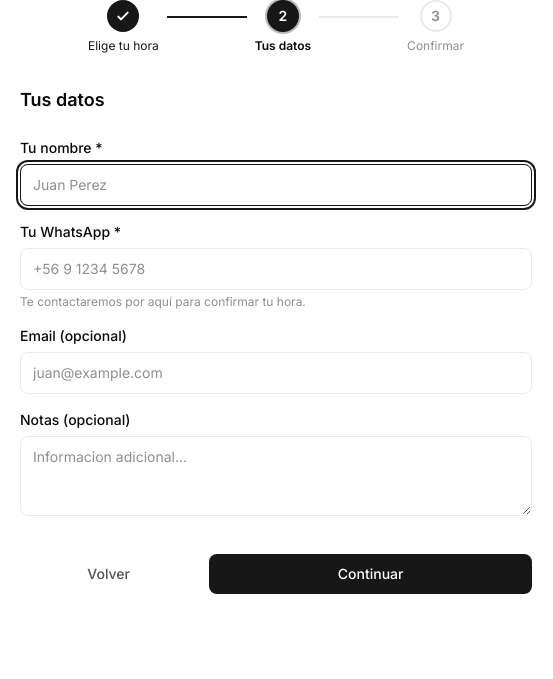
Test case: BookingWizard › shows error when phone is invalid
Type "Ana" into the field with placeholder "Juan Perez".
click(276, 185); type("Ana")  # box [20,164,532,206]
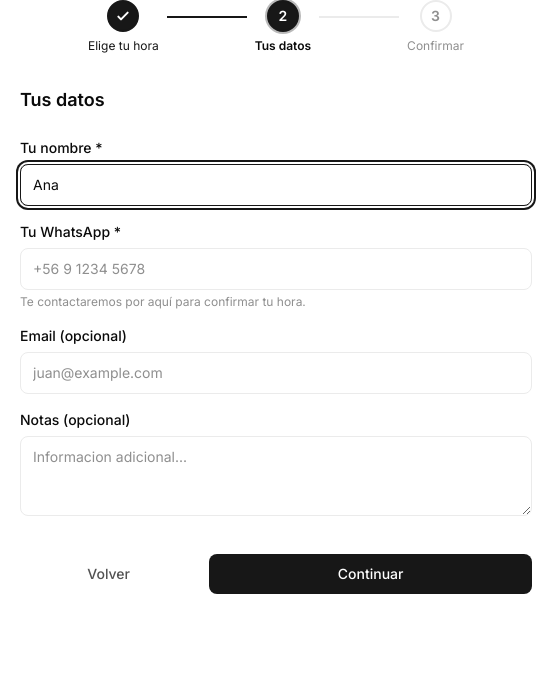
Type "123" into the field with placeholder "+56 9 1234 5678".
click(276, 269); type("123")  # box [20,248,532,290]
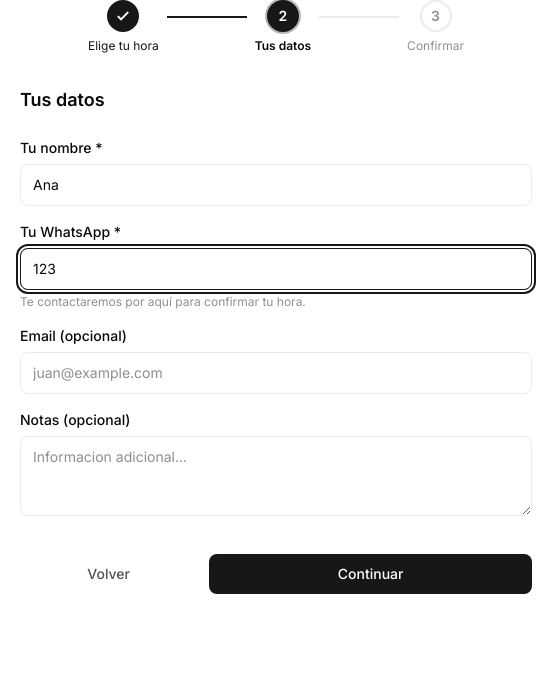
Click the button "Continuar".
click(371, 574)  # box [209,554,532,594]
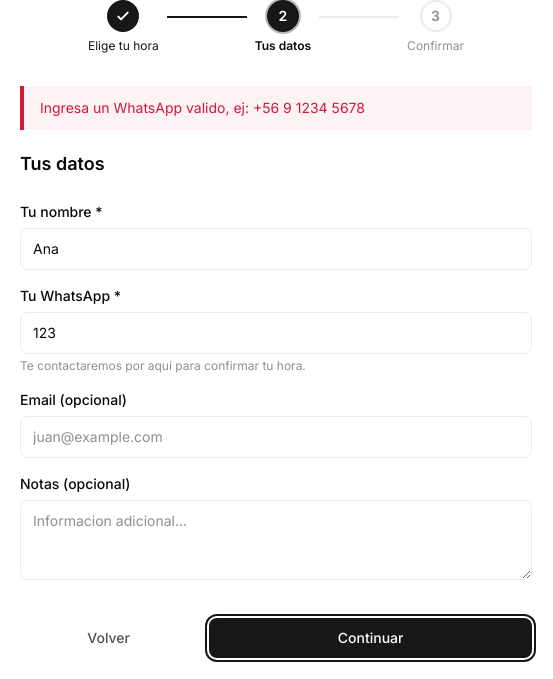
Expected: the text "Ingresa un WhatsApp valido, ej: +56 9 1234 5678" is shown, [20,86,532,130]
